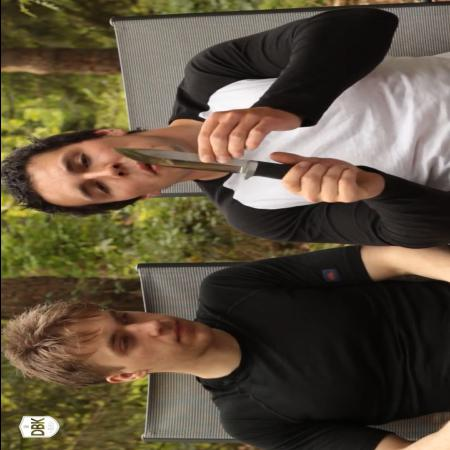long weapon: (100, 143, 334, 199)
